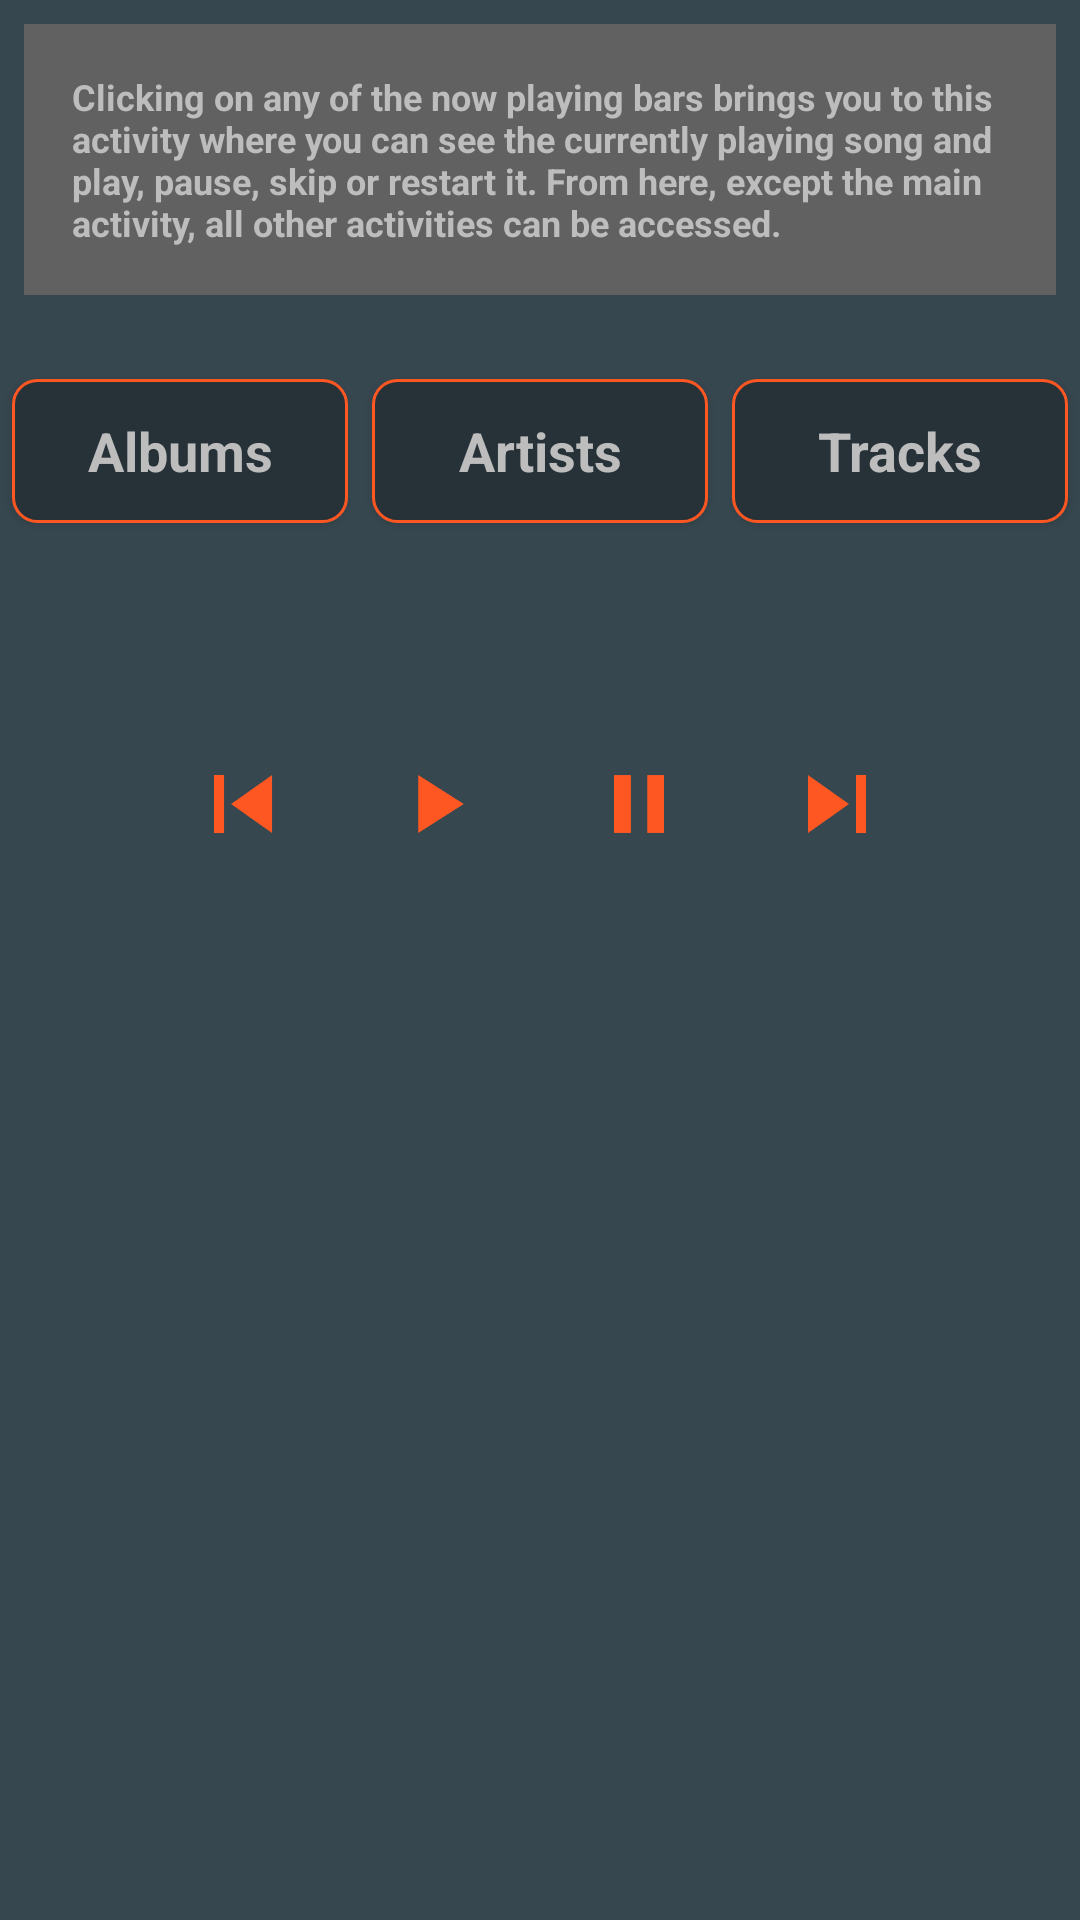

Locate icon controls on the screen. Image size 1080×1920, boxes as bbox=(x1, y1, x2, y2).
pause: bbox=(614, 775, 664, 833)
play: bbox=(418, 775, 464, 833)
skipback: bbox=(214, 775, 272, 833)
skipforward: bbox=(808, 775, 866, 833)
